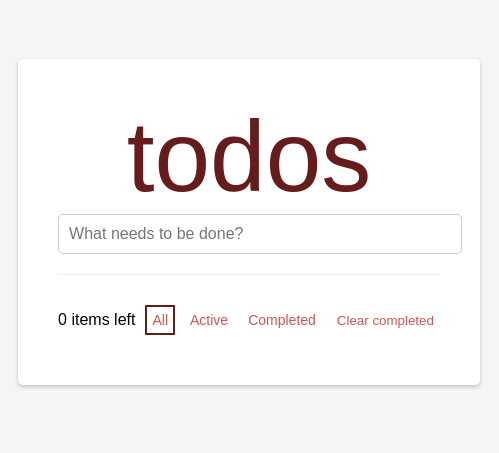
Test: TodoViews › clears completed todos
The width and height of the screenshot is (499, 453).
Step 1. Type "First Todo" into the field with placeholder "What needs to be done?" → [260, 234], box top-left (58, 214), bottom-right (462, 254)
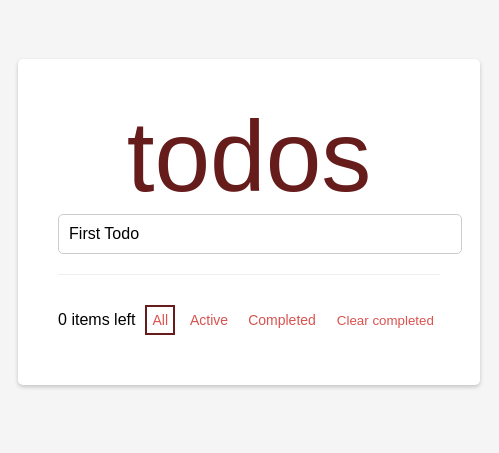
Step 2. Submit the form with test id "todo-form", box top-left (58, 214), bottom-right (440, 254)
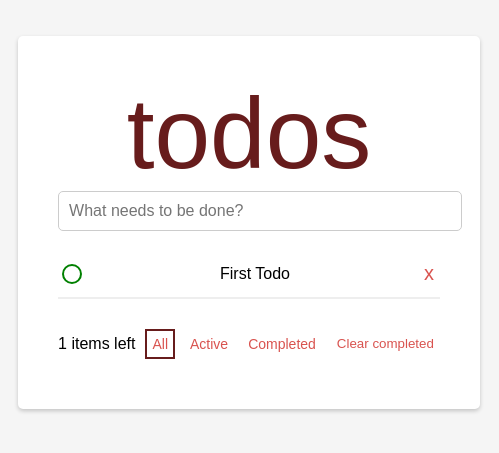
Step 3. Type "Second Todo" into the field with placeholder "What needs to be done?" → [260, 210], box top-left (58, 190), bottom-right (462, 230)
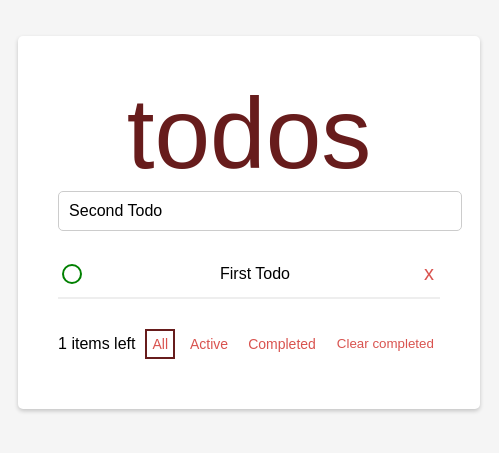
Step 4. Submit the form with test id "todo-form", box top-left (58, 190), bottom-right (440, 230)
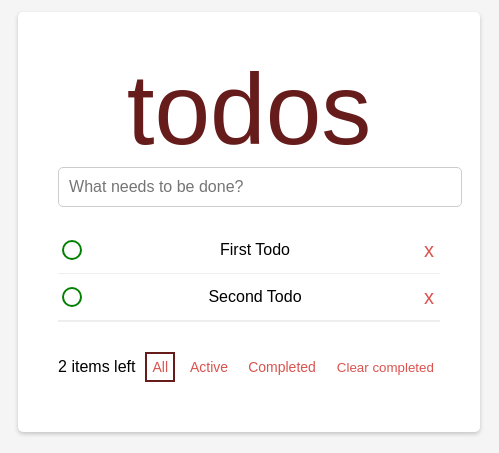
Step 5. Click the checkbox next to "First Todo" → [72, 250], box top-left (62, 240), bottom-right (82, 260)
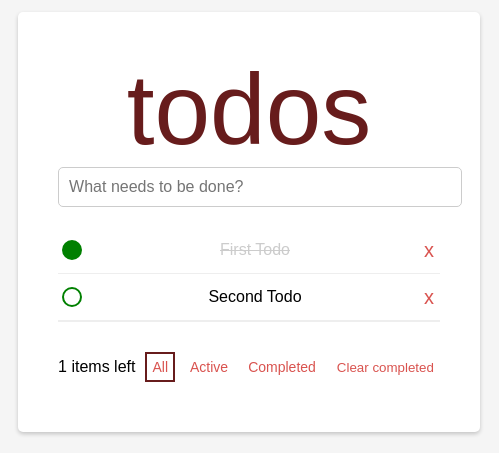
Step 6. Click the button "Clear completed" → [385, 367], box top-left (331, 358), bottom-right (440, 376)
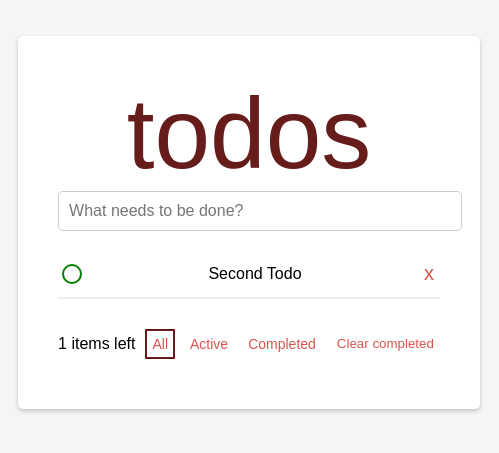
Now the text "Second Todo" is shown, box top-left (208, 264), bottom-right (302, 282)
Now the text "First Todo" is gone
